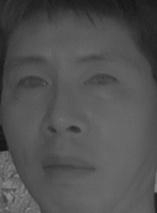eye: (15, 68, 50, 95), (84, 67, 118, 94)
mouth: (35, 148, 101, 185)
